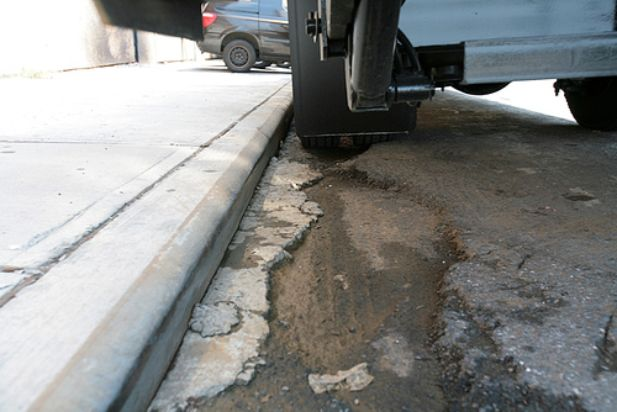o: (249, 168, 474, 402)
